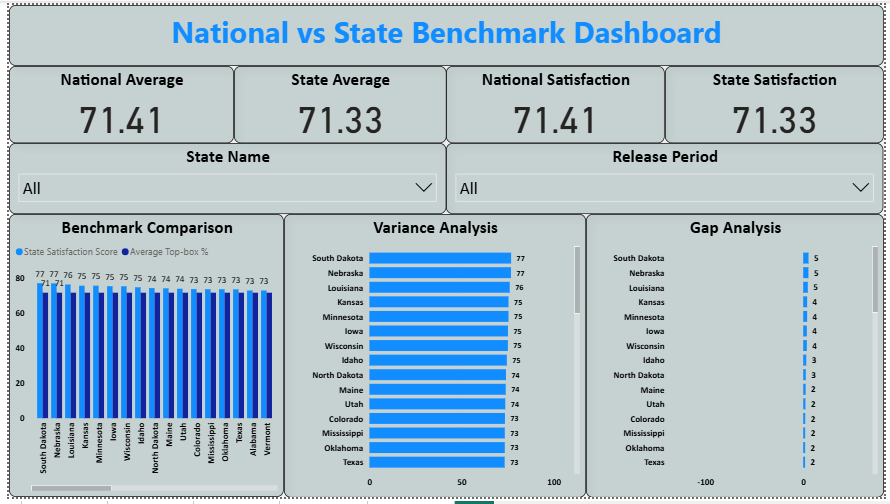

The dashboard page shown, as its layout file describes it:
{"tool":"powerbi","page":{"name":"Report 4","canvas":[1280,720],"ordinal":4},"visuals":[{"type":"textbox","box":[0,0,1280.5,89.3],"z":0},{"type":"card","title":"National Average","fields":{"Values":["national_results.Average Top-box %"]},"box":[0,89.3,251.7,112.7],"z":1000},{"type":"card","title":"State Average","fields":{"Values":["state_results.State Average Top-box %"]},"box":[251.7,89.3,234.1,112.7],"z":2000},{"type":"card","title":"National Satisfaction","fields":{"Values":["national_results.National Top-box %"]},"box":[485.9,89.3,238.5,112.7],"z":3000},{"type":"card","title":"State Satisfaction","fields":{"Values":["state_results.State Satisfaction Score"]},"box":[724.4,89.3,254.6,112.7],"z":4000},{"type":"slicer","title":"State Name","fields":{"Values":["states.State Name"]},"box":[979,89.3,301.5,112.7],"z":5000},{"type":"slicer","title":"Release Period","fields":{"Values":["reports.Release Period"]},"box":[0,202,402.4,103.9],"z":6000},{"type":"clusteredColumnChart","title":"Benchmark Comparison","fields":{"Category":["states.State Name"],"Y":["state_results.State Satisfaction Score","national_results.Average Top-box %"]},"box":[0,305.9,402.4,414.1],"z":7000},{"type":"clusteredBarChart","title":"Variance Analysis","fields":{"Category":["states.State Name"],"Y":["state_results.State Satisfaction Score"]},"box":[402.4,202,528.3,218],"z":8000},{"type":"clusteredBarChart","title":"Gap Analysis","fields":{"Category":["states.State Name"],"Y":["state_results.Gap Analysis"]},"box":[930.7,202,349.8,518],"z":9000},{"type":"ribbonChart","title":"Regional Ranking Trends","fields":{"Category":["reports.Release Period"],"Series":["states.Region"],"Y":["state_results.Regional Satisfaction Score"]},"box":[402.4,420,528.3,300],"z":10000},{"type":"actionButton","box":[0,0,139,89.3],"z":11000},{"type":"actionButton","box":[1129.8,0,150.7,89.3],"z":12000}]}

Visuals, with their boxes in screenshot pixels (x1, y1, x2, y2), scaled from the page's 1280x720 canvas onto the 890x504 screenshot:
textbox: [0, 0, 889, 63]
"National Average" card: [0, 63, 175, 141]
"State Average" card: [175, 63, 338, 141]
"National Satisfaction" card: [338, 63, 504, 141]
"State Satisfaction" card: [504, 63, 681, 141]
"State Name" slicer: [681, 63, 889, 141]
"Release Period" slicer: [0, 141, 280, 214]
"Benchmark Comparison" clusteredColumnChart: [0, 214, 280, 503]
"Variance Analysis" clusteredBarChart: [280, 141, 647, 294]
"Gap Analysis" clusteredBarChart: [647, 141, 889, 503]
"Regional Ranking Trends" ribbonChart: [280, 294, 647, 503]
actionButton: [0, 0, 97, 63]
actionButton: [786, 0, 889, 63]
